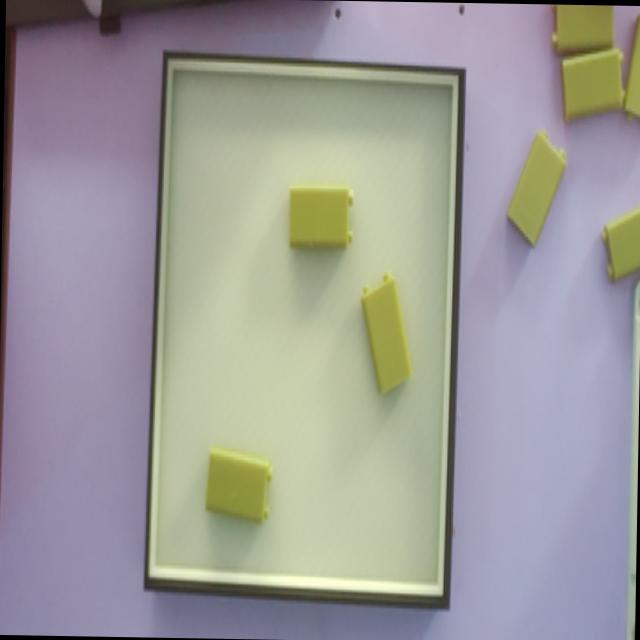bateria: (361, 271, 413, 396), (204, 447, 273, 524), (287, 185, 353, 248)
mesa: (143, 52, 465, 609)
